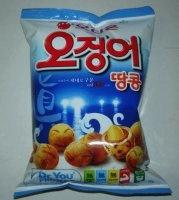snack: (13, 6, 173, 200)
